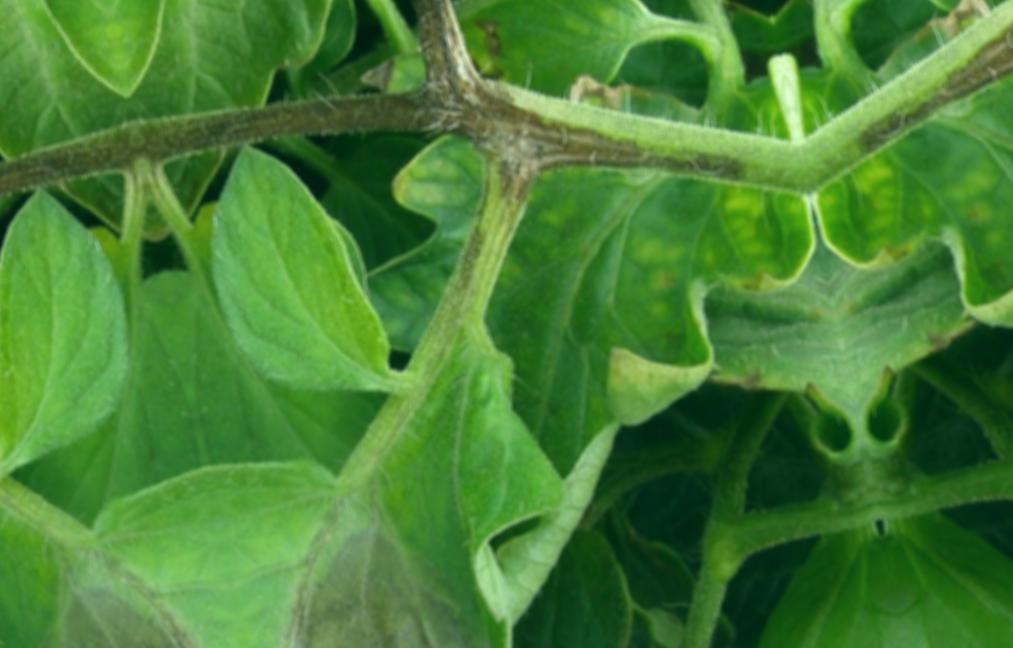Tomato mold leaf: (201, 376, 629, 648), (173, 113, 419, 435)
